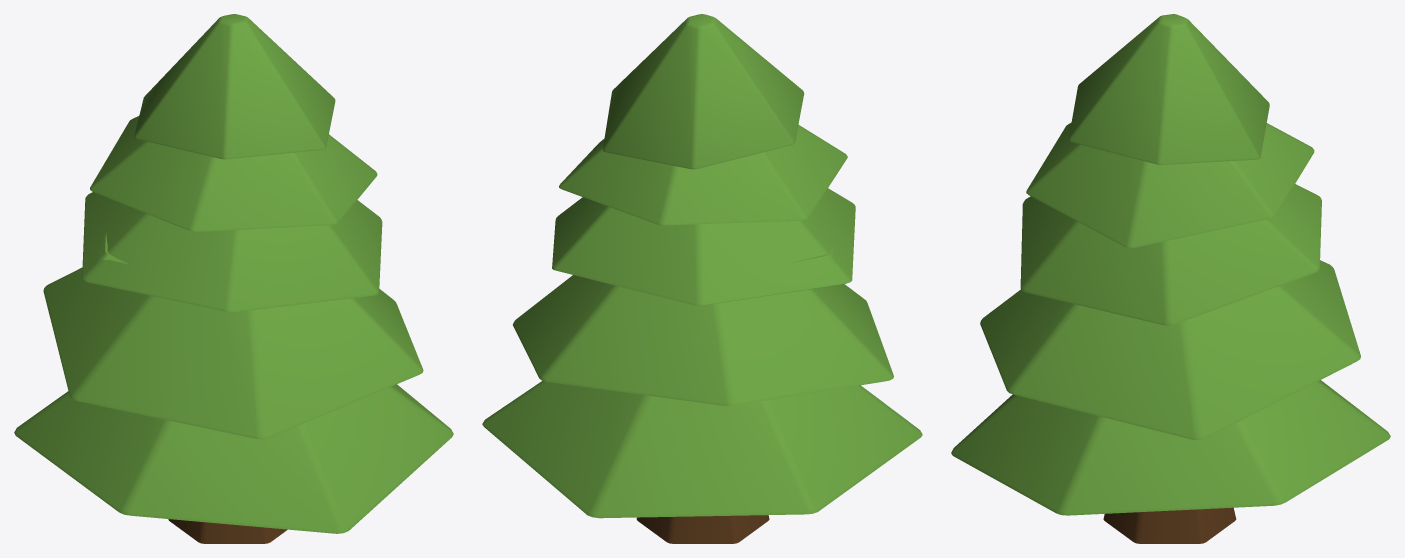
The model's file is Tree2_Normal.fbx.
3 views of the same model, side by side, from view 1: azimuth 30°, elevation 25°; view 2: azimuth 150°, elevation 25°; view 3: azimuth 270°, elevation 25° (orthographic).
Parts seen in each view (by area): view 1: Baum2_Normal; view 2: Baum2_Normal; view 3: Baum2_Normal.
Boxes of the visible parts, x1=… form: Baum2_Normal: x1=14, y1=14, x2=453, y2=543; Baum2_Normal: x1=482, y1=14, x2=922, y2=543; Baum2_Normal: x1=951, y1=14, x2=1390, y2=543.
Size of the model in its own units: 251 by 342 by 272.
